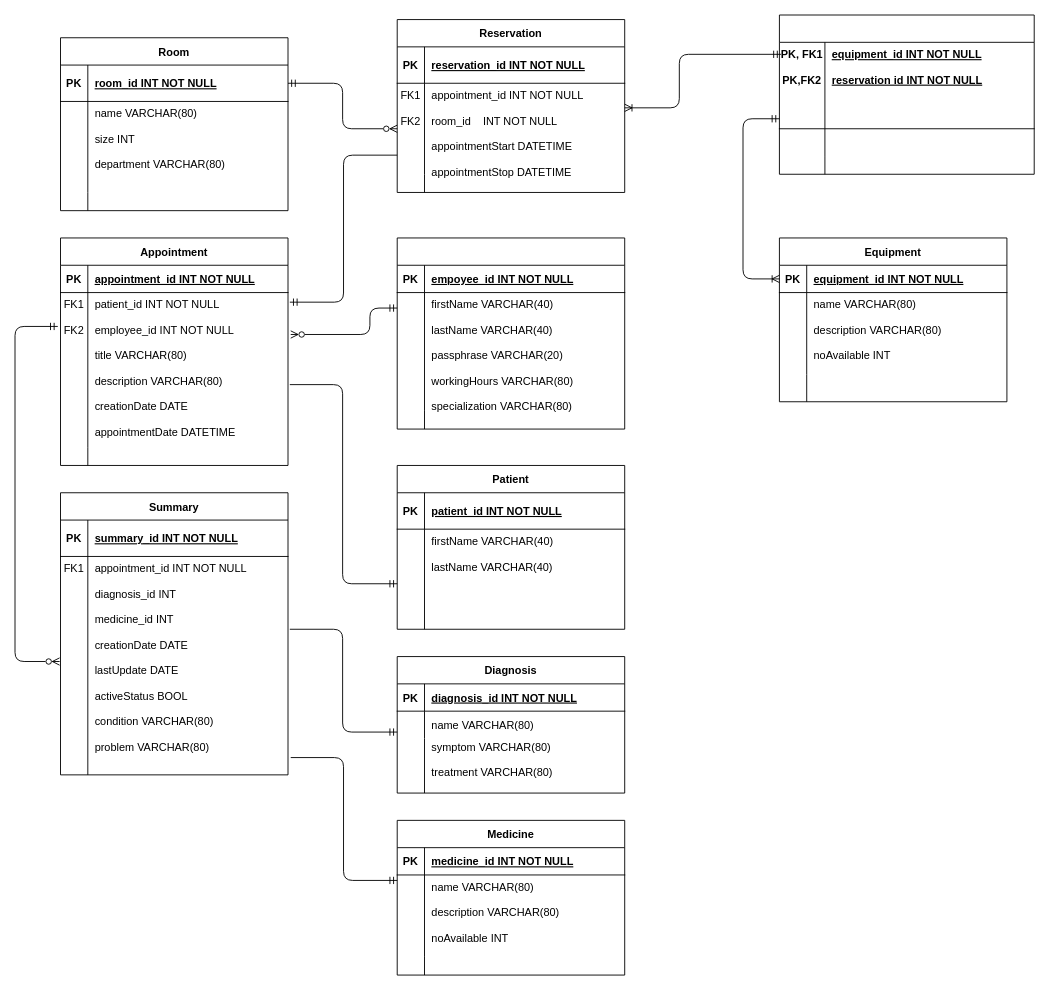
The diagram is 1049 pixels wide and 990 high, and some of its shapes have lost their labels. Each missing label, with the box of its shape:
Employee: (396, 237, 625, 429)
EquipmentOnReservation: (779, 14, 1034, 174)
